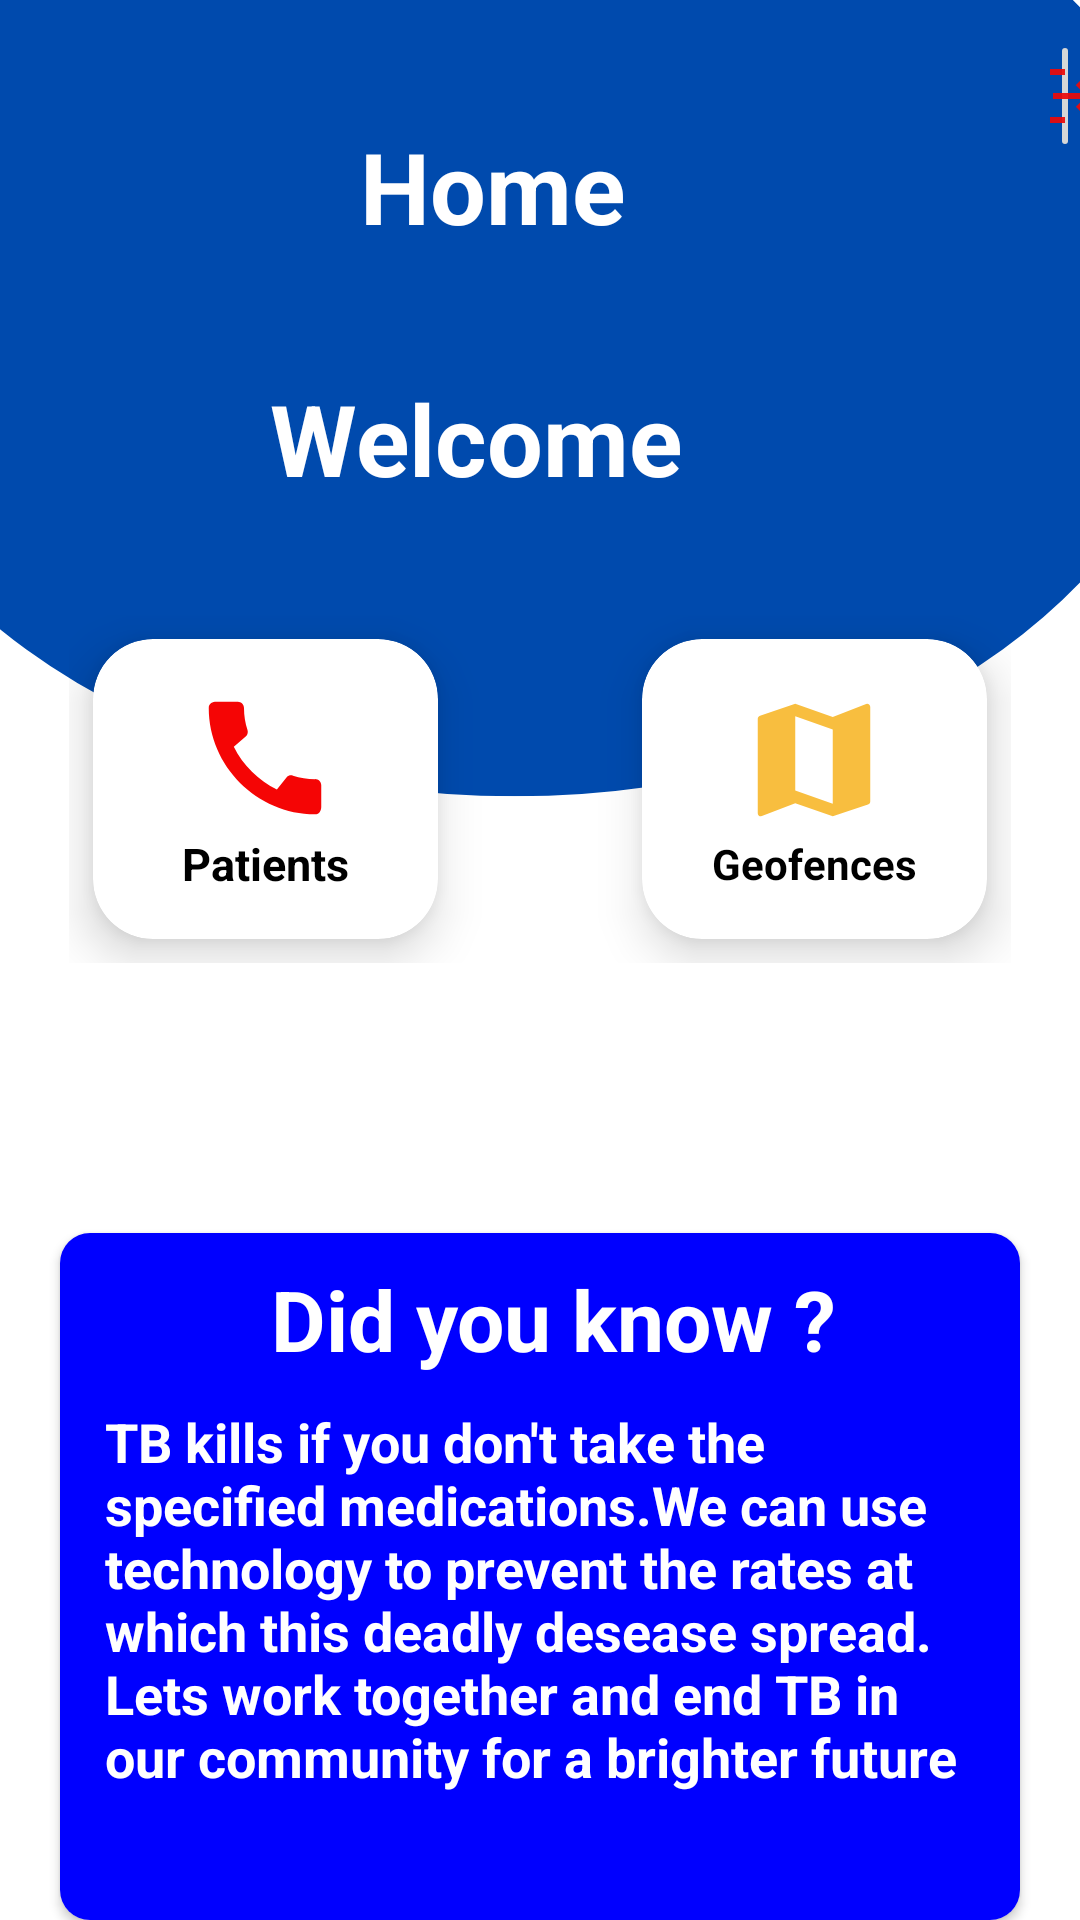

Icons on this 1080x1920 Android screen, each with the point to tap as (x,y):
call: (265,758)
map: (814,760)
